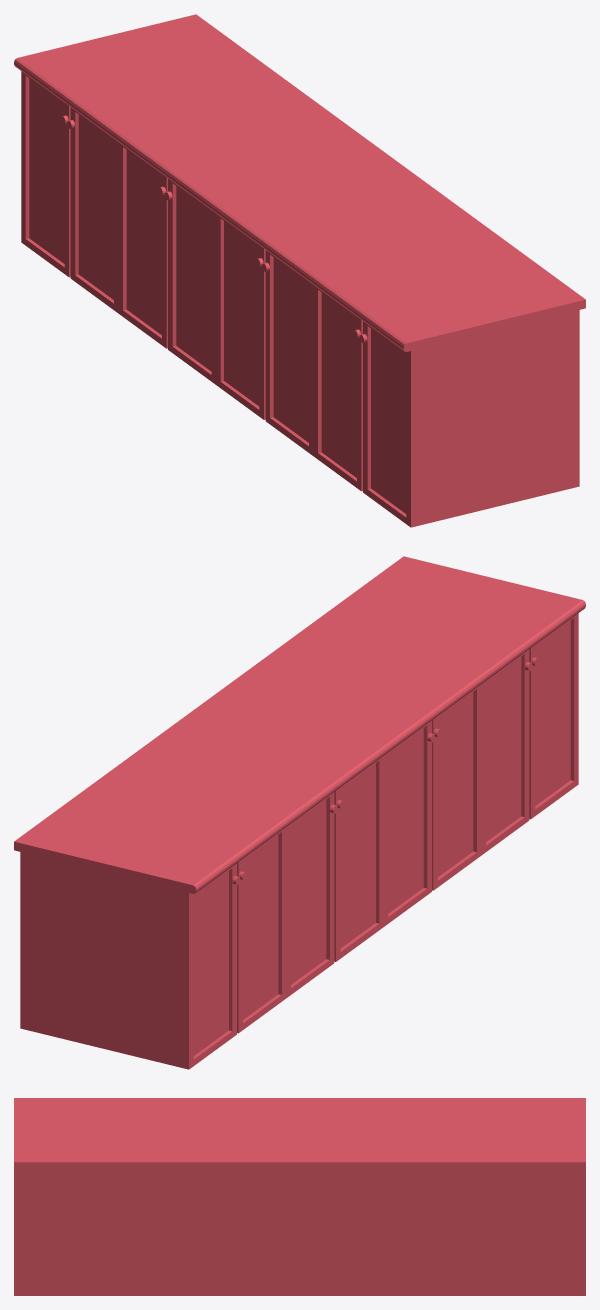
Rendered from Counter3.fbx.
3 renders of one model, top to bottom at view 1: azimuth 30°, elevation 25°; view 2: azimuth 150°, elevation 25°; view 3: azimuth 270°, elevation 25°, orthographic. The views are drawn at different scales.
Visible parts, largest first — view 1: Cabinet bottm; view 2: Cabinet bottm; view 3: Cabinet bottm.
Part boxes in pixels (x1=…): Cabinet bottm: x1=14, y1=14, x2=585, y2=527; Cabinet bottm: x1=14, y1=556, x2=585, y2=1069; Cabinet bottm: x1=14, y1=1098, x2=585, y2=1295.
Bounding box in the file's own units: 130 × 126 × 480.
